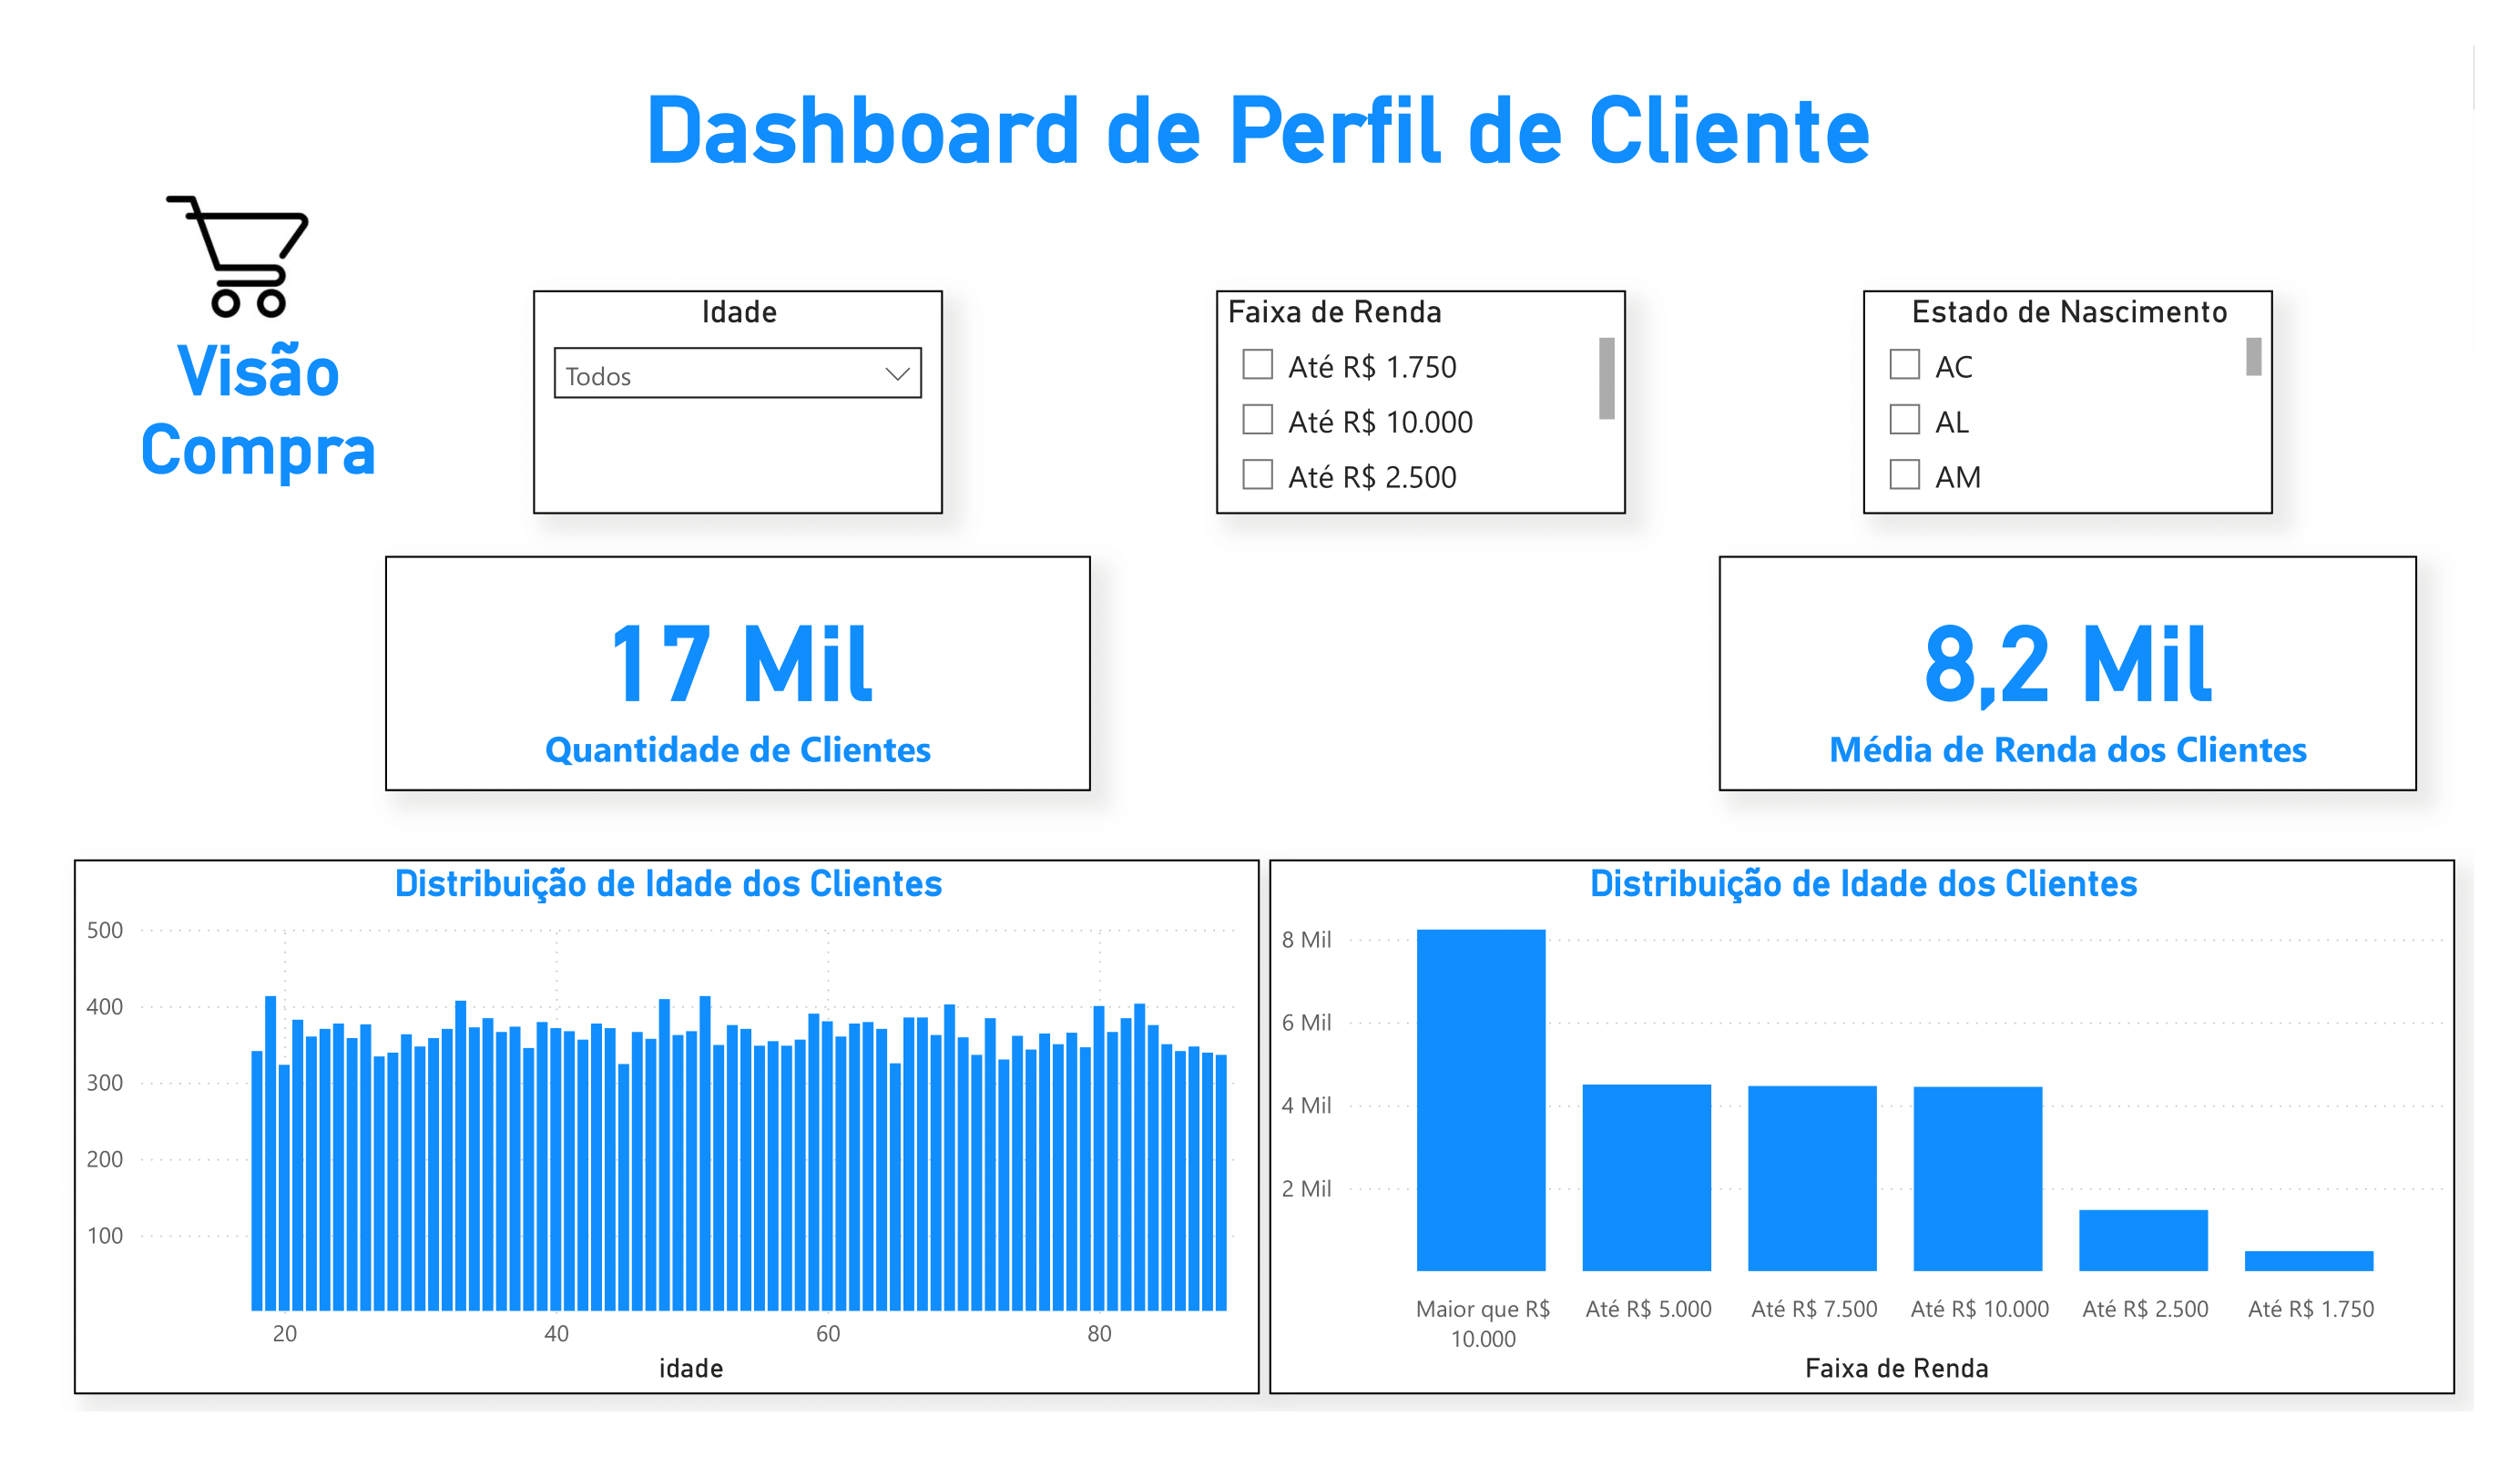

The page's visual inventory and layout, read from the dashboard file:
{"tool":"powerbi","page":{"name":"Visão Compra","canvas":[1280,720],"ordinal":1},"visuals":[{"type":"card","fields":{"Values":["Count(Base cliente.cliente_Log)"]},"box":[179.2,269.4,371.6,123.5],"z":0},{"type":"card","fields":{"Values":["Avg(Base cliente.renda)"]},"box":[882,269.1,368.3,123.8],"z":1000},{"type":"clusteredColumnChart","title":"Distribuição de Idade dos Clientes","fields":{"Category":["Base cliente.idade"],"Y":["Count(Base cliente.cliente_Log)"]},"box":[15,428.8,625,282.5],"z":2000},{"type":"textbox","title":"Dashboard de Perfil de Cliente","box":[311,16.4,687.6,59.3],"z":4000},{"type":"textbox","title":"Visão Compra","box":[12.3,150.4,200.5,85.9],"z":5000},{"type":"image","box":[36.8,65.5,127.9,92.1],"z":6000},{"type":"slicer","title":"Idade","fields":{"Values":["Base cliente.idade"]},"box":[256.8,128.9,215.9,117.7],"z":7000},{"type":"slicer","title":"Estado de Nascimento","fields":{"Values":["Base cliente.uf_nascimento"]},"box":[957.7,128.9,215.9,117.7],"z":8000},{"type":"slicer","title":"Faixa de Renda","fields":{"Values":["Base cliente.Faixa de Renda"]},"box":[617,128.9,215.9,117.7],"z":9000},{"type":"clusteredColumnChart","title":"Distribuição de Idade dos Clientes","fields":{"Category":["Base cliente.Faixa de Renda"],"Y":["Count(Base cliente.cliente_Log)"]},"box":[644.6,428.7,625.2,282.4],"z":10000}]}

Visuals, with their boxes in screenshot pixels (x1, y1, x2, y2):
card - Count(Base cliente.cliente_Log): BBox(385, 556, 1091, 791)
card - Avg(Base cliente.renda): BBox(1719, 556, 2418, 791)
"Distribuição de Idade dos Clientes" clusteredColumnChart: BBox(74, 859, 1260, 1395)
"Dashboard de Perfil de Cliente" textbox: BBox(636, 76, 1941, 189)
"Visão Compra" textbox: BBox(69, 331, 449, 494)
image: BBox(116, 169, 358, 344)
"Idade" slicer: BBox(533, 290, 943, 514)
"Estado de Nascimento" slicer: BBox(1862, 290, 2272, 514)
"Faixa de Renda" slicer: BBox(1217, 290, 1626, 514)
"Distribuição de Idade dos Clientes" clusteredColumnChart: BBox(1269, 859, 2455, 1394)
